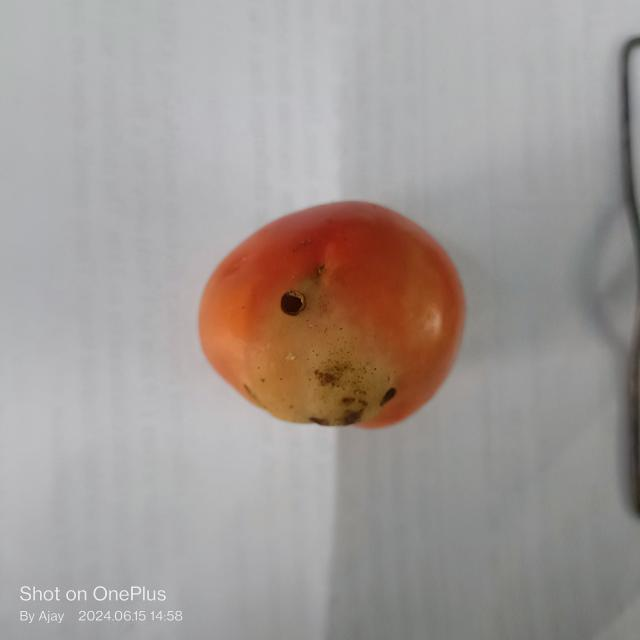fruitworm_bore: (269, 280, 313, 319)
